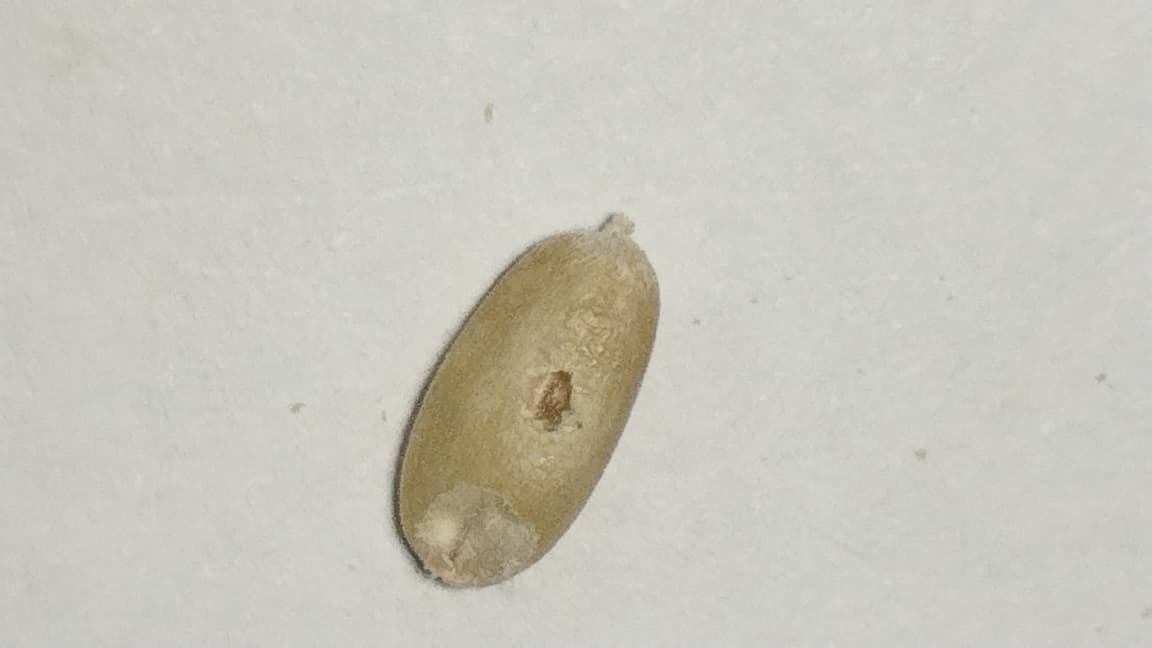damage: (397, 216, 659, 586)
insectdamage: (517, 337, 605, 451)
